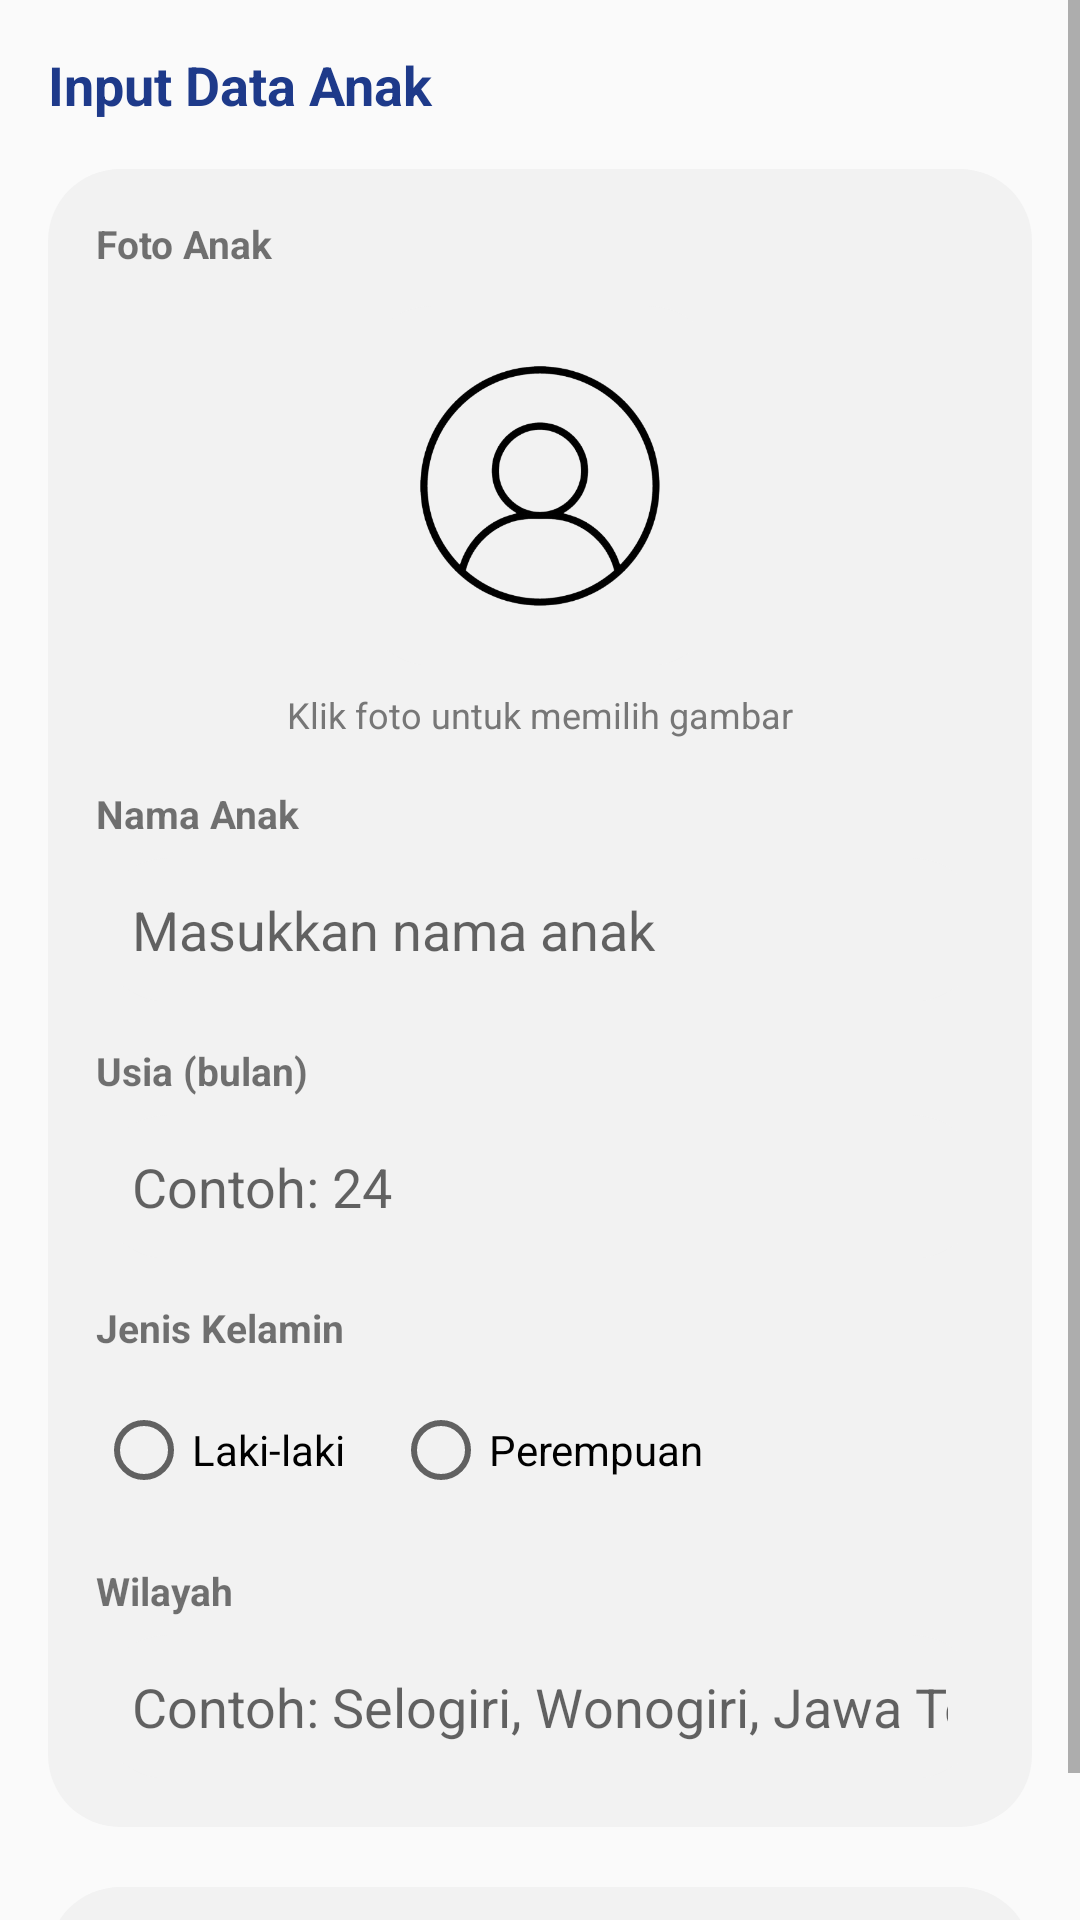

Icons on this 1080w x 1920h Android screen, each with its box as (x1, y1, x2, y2):
profil: (420, 366, 660, 606)
